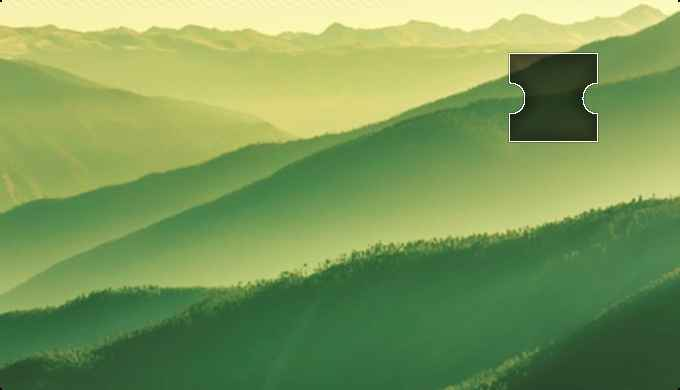gap: (509, 51, 599, 143)
